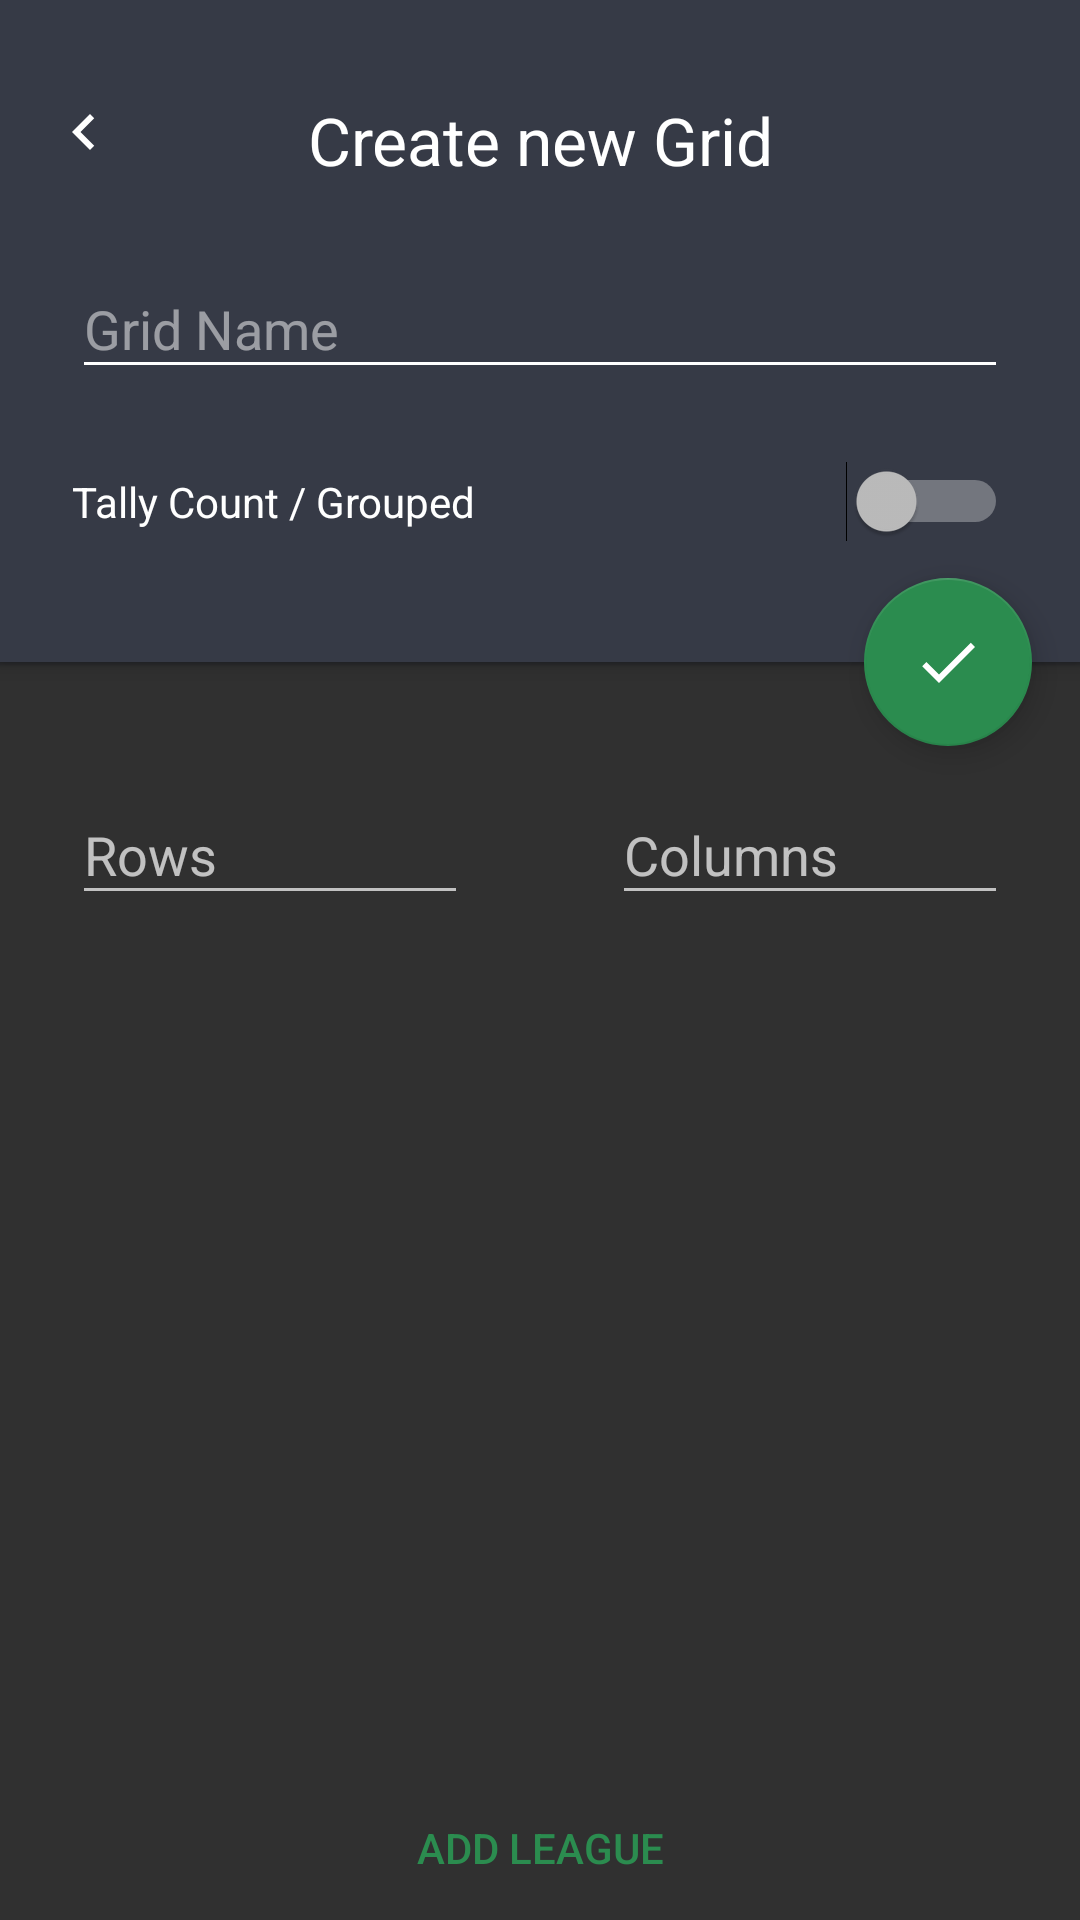

Named icons in this screenshot (1080px x 1920px) and their centers, (x=x, y=y):
Back: (x=83, y=132)
done: (x=948, y=662)
